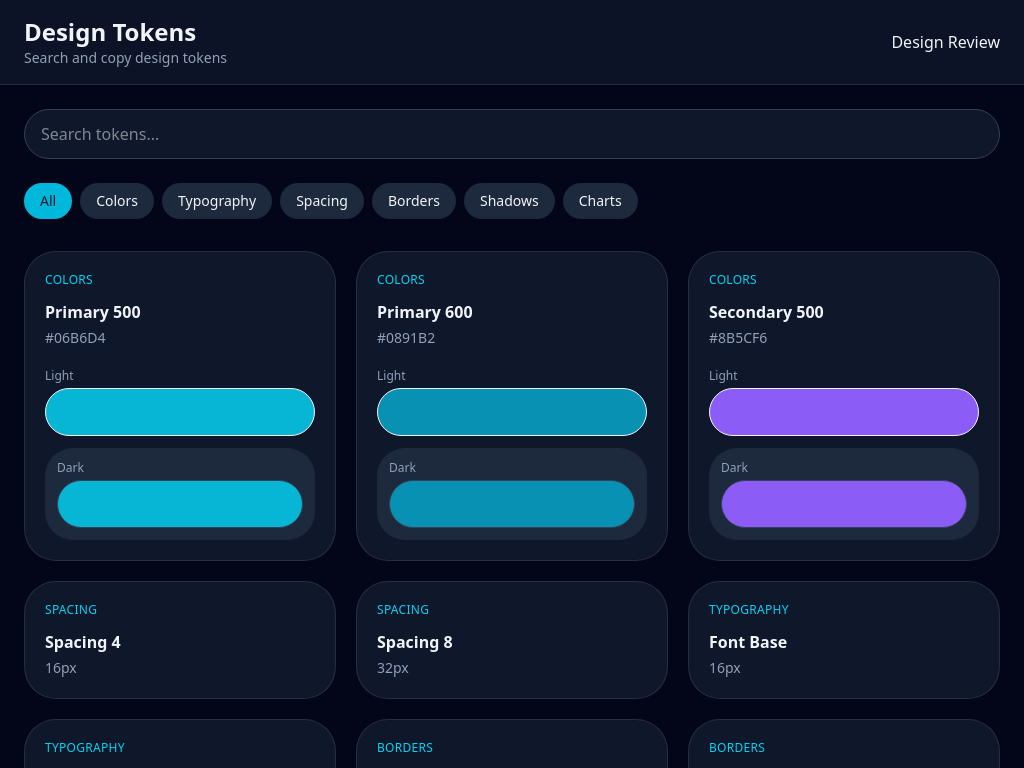
Test: DesignTokensPage › shows an empty state when filtering by a category that does not match the search
In the field with placeholder "Search tokens...": (512, 134) top-left (24, 109), bottom-right (1000, 159), type "Primary"
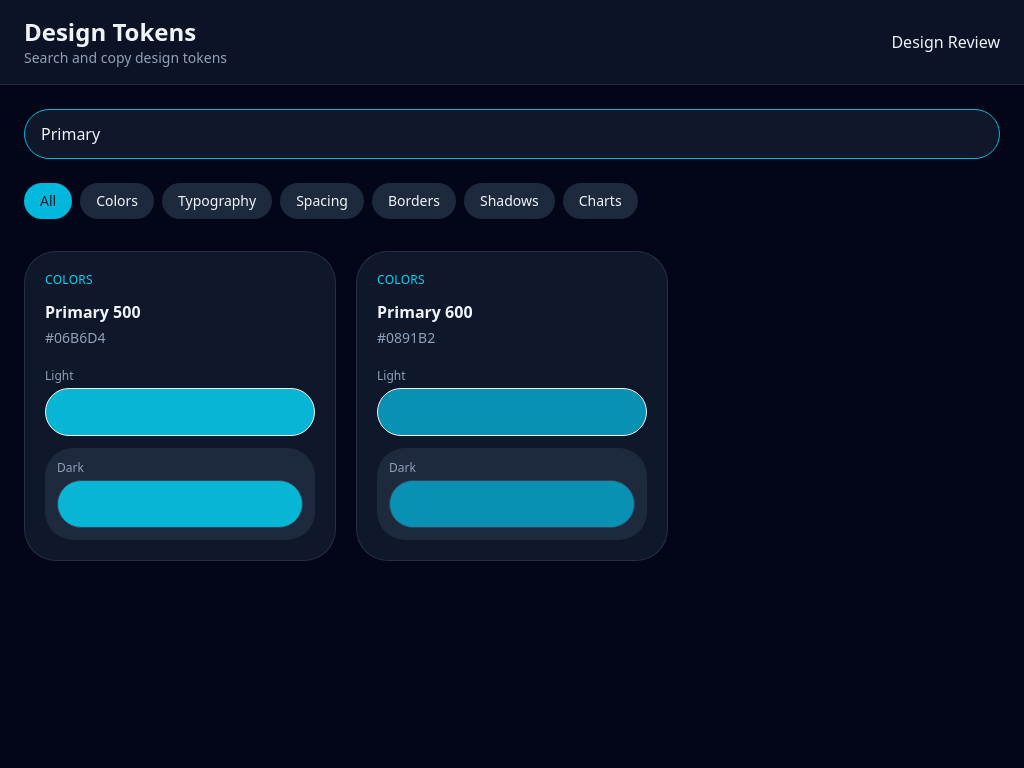
Click the button "Borders": (414, 201) top-left (372, 183), bottom-right (456, 219)
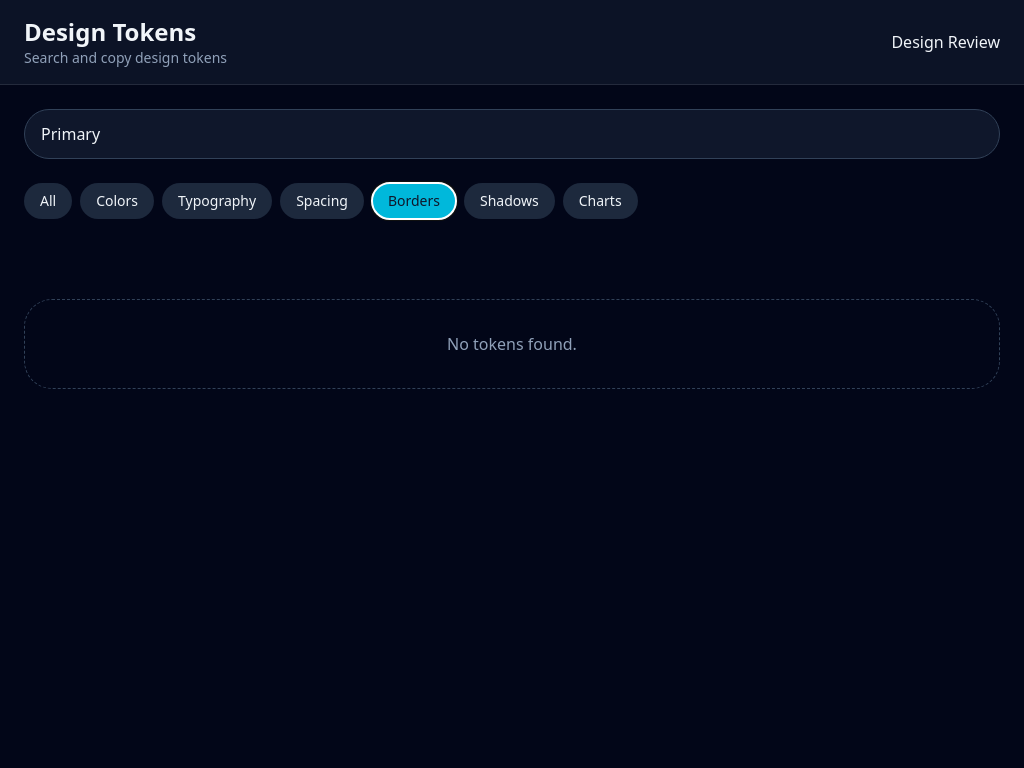
Now the text "No tokens found." is shown, box top-left (24, 299), bottom-right (1000, 389)
